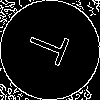T: (25, 25, 79, 71)
